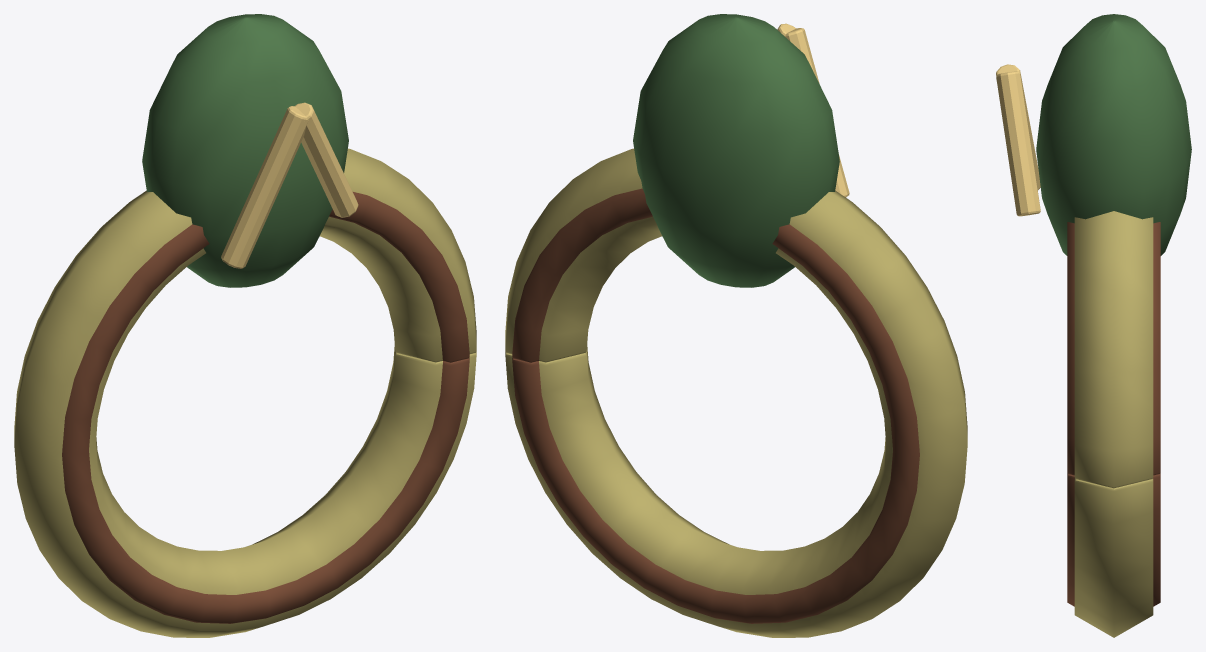
File: item_076.glb
3 views of the same model, side by side, from view 1: azimuth 30°, elevation 25°; view 2: azimuth 150°, elevation 25°; view 3: azimuth 270°, elevation 25° (orthographic). The views are drawn at different scales.
Visible parts, largest first — view 1: Item_076_pine_knot_ring; view 2: Item_076_pine_knot_ring; view 3: Item_076_pine_knot_ring.
Part boxes in pixels (x1,y1,x2,y2): Item_076_pine_knot_ring: (14, 14, 476, 637); Item_076_pine_knot_ring: (505, 14, 967, 637); Item_076_pine_knot_ring: (996, 14, 1191, 637).
Size of the model in its own units: 0.3639 by 0.462 by 0.1383.
